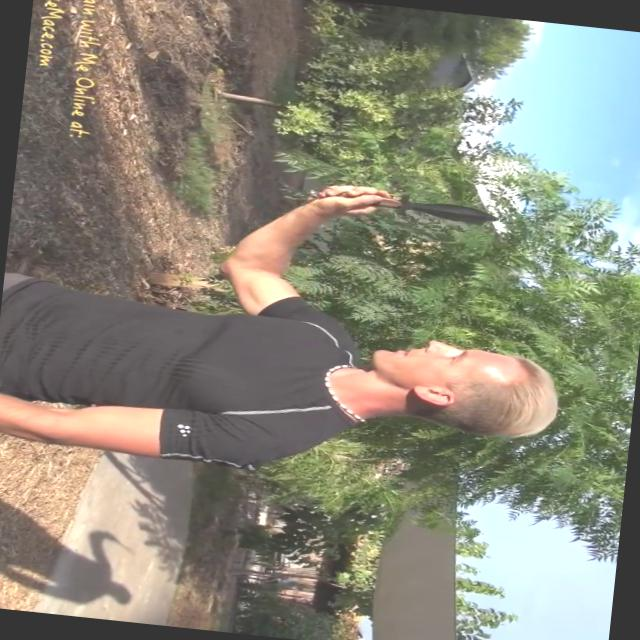knife: (309, 173, 512, 236)
